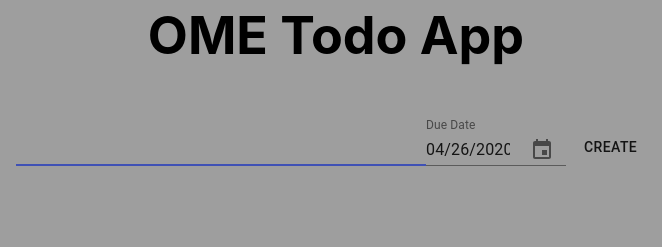
Scenario: can delete a todo after it is created
Type "stuff to do" into the field with test id "name-input" at (221,150), box [16, 134, 426, 166]
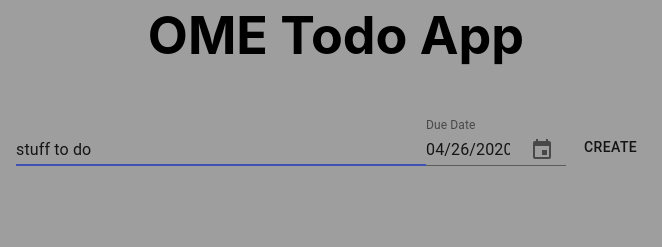
Click the button "Create" at (611,147), box [576, 129, 645, 166]
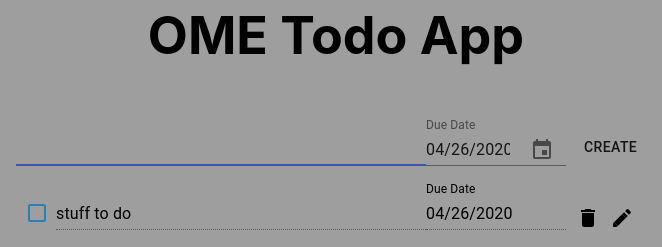
Click the icon with test id "delete-button" at (588,218), box [576, 206, 600, 230]
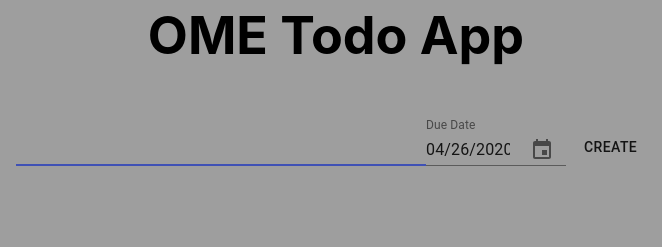
Check: the number of fields with test id "name-input" is 1, box [16, 134, 426, 166]
